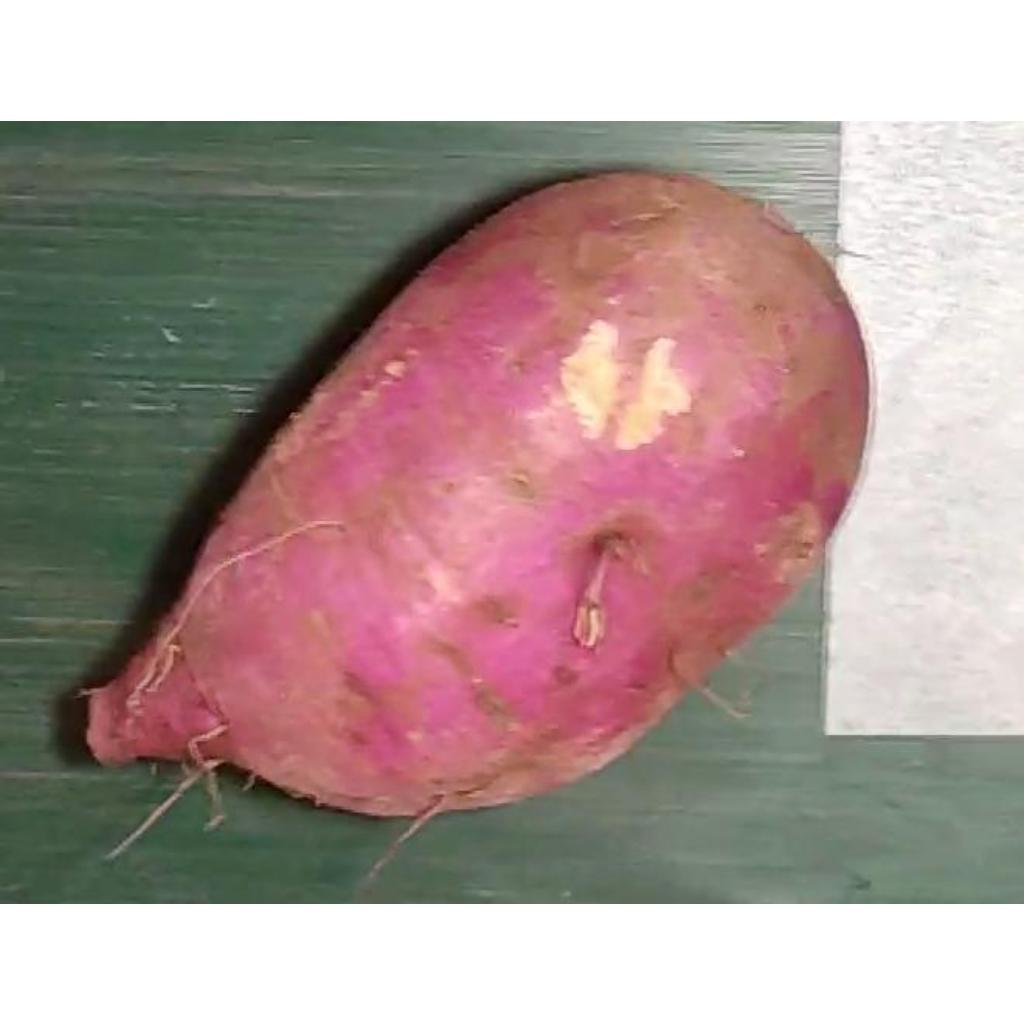Sweet Potato: (84, 173, 874, 821)
